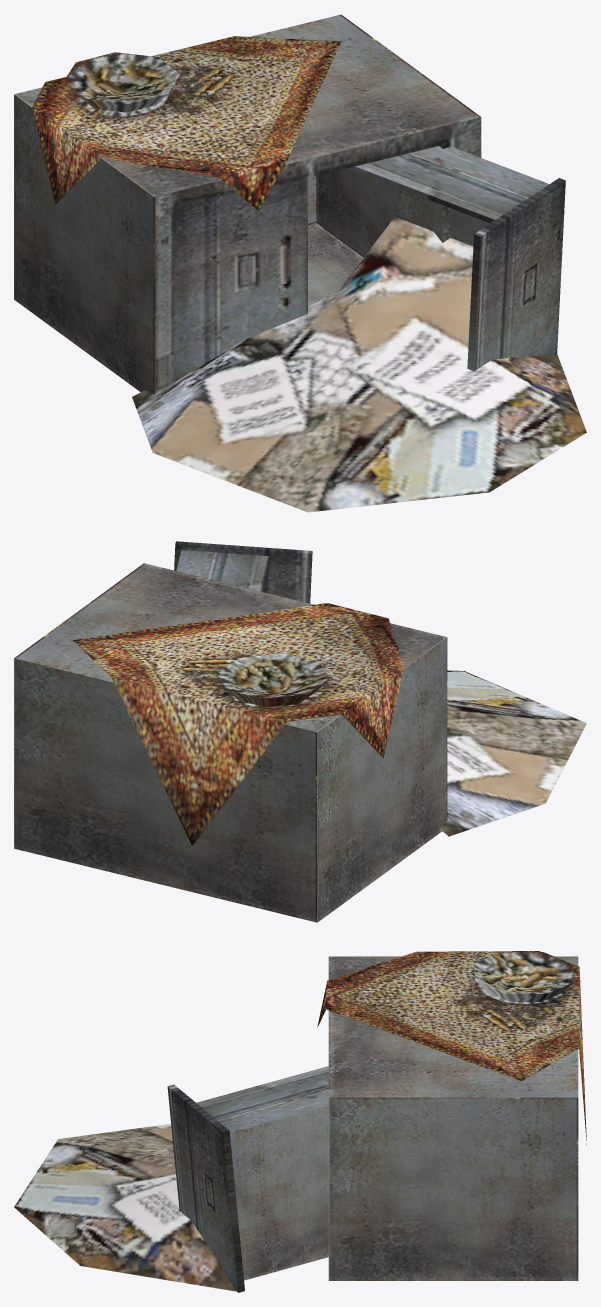
3 views of the same model, one above another, from view 1: azimuth 30°, elevation 25°; view 2: azimuth 150°, elevation 25°; view 3: azimuth 270°, elevation 25° (orthographic). The views are drawn at different scales.
Visible parts, largest first — view 1: _File01; view 2: _File01; view 3: _File01.
Part boxes in pixels (x1=…): _File01: x1=14, y1=14, x2=586, y2=512; _File01: x1=14, y1=541, x2=586, y2=922; _File01: x1=14, y1=951, x2=586, y2=1292.
Bounding box in the file's own units: 1.3 × 0.7084 × 1.79.
1 material, 1 textured.
